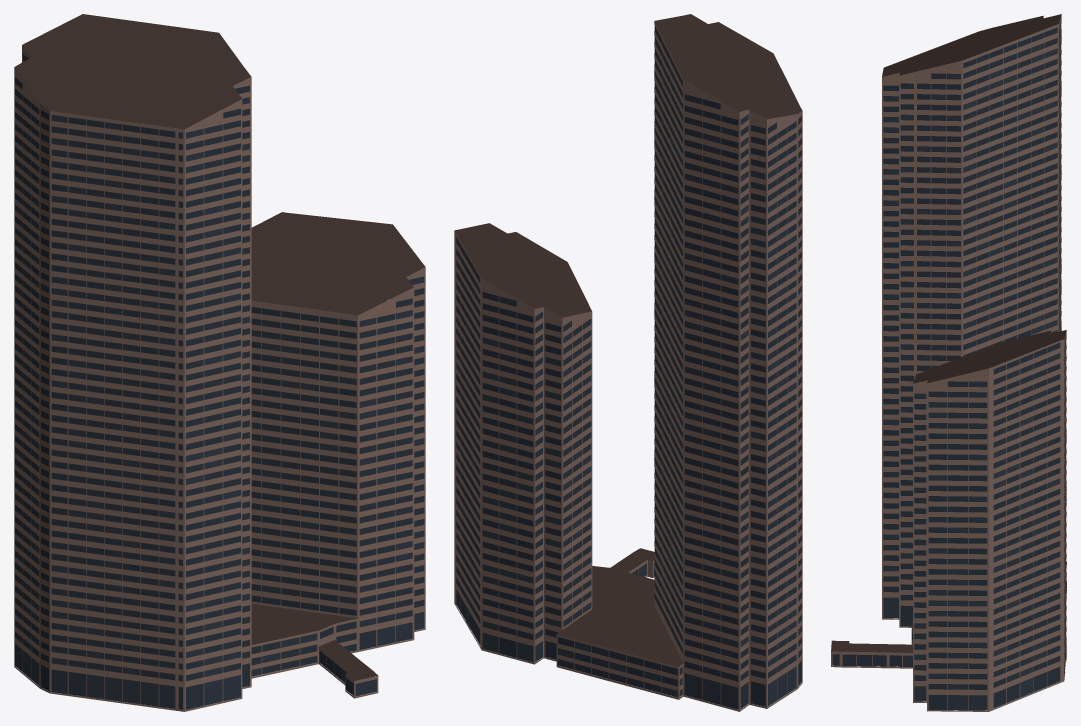
Rendered from suncor-energy-centre-far.glb.
3 renders of one model, left to right at view 1: azimuth 30°, elevation 25°; view 2: azimuth 150°, elevation 25°; view 3: azimuth 270°, elevation 25°, orthographic. The views are drawn at different scales.
Visible parts, largest first — view 1: suncor-energy-centre-0-granite, suncor-energy-centre-0-glass, suncor-energy-centre-0-roof, suncor-energy-centre-0-glow; view 2: suncor-energy-centre-0-granite, suncor-energy-centre-0-glass, suncor-energy-centre-0-roof, suncor-energy-centre-0-glow; view 3: suncor-energy-centre-0-granite, suncor-energy-centre-0-glass, suncor-energy-centre-0-glow, suncor-energy-centre-0-roof.
Boxes of the visible parts, box(x1,y1,x2,y2) form: suncor-energy-centre-0-granite: box(14, 45, 425, 711); suncor-energy-centre-0-glass: box(15, 54, 424, 709); suncor-energy-centre-0-roof: box(14, 14, 425, 680); suncor-energy-centre-0-glow: box(15, 54, 424, 708); suncor-energy-centre-0-granite: box(454, 22, 802, 711); suncor-energy-centre-0-glass: box(456, 25, 801, 709); suncor-energy-centre-0-roof: box(454, 14, 802, 666); suncor-energy-centre-0-glow: box(456, 64, 801, 709); suncor-energy-centre-0-granite: box(831, 15, 1066, 711); suncor-energy-centre-0-glass: box(834, 22, 1066, 710); suncor-energy-centre-0-glow: box(832, 30, 1066, 710); suncor-energy-centre-0-roof: box(831, 14, 1066, 652).
Size of the model in its own units: 126 by 215 by 80.89.
